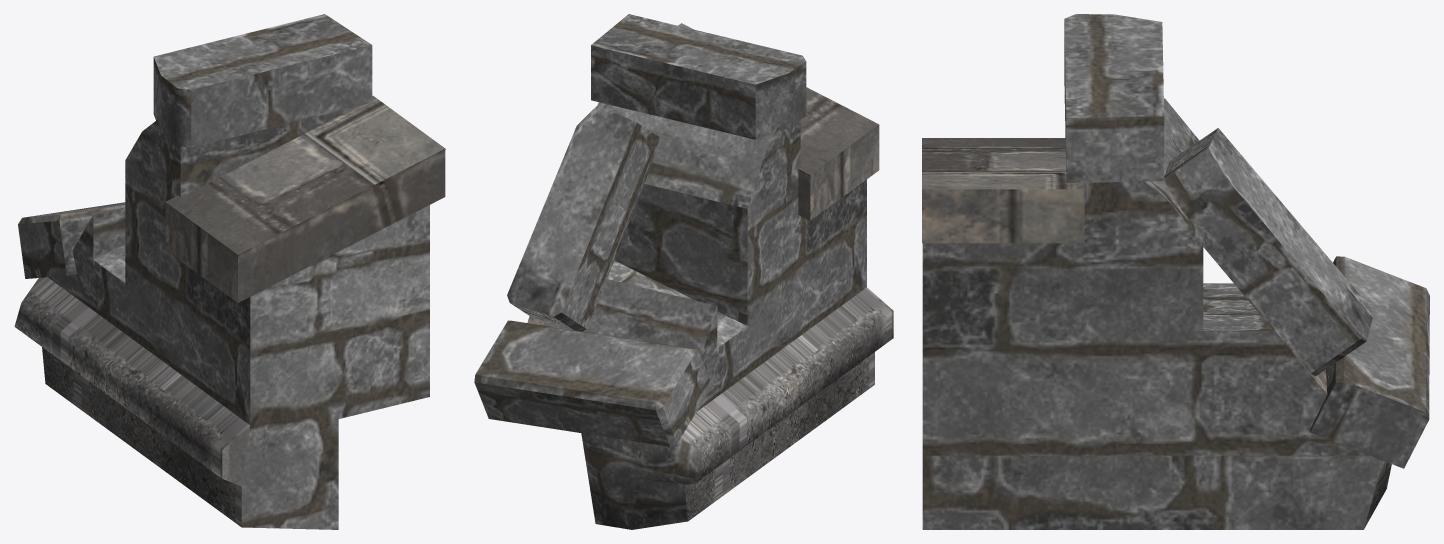
The model's file is MC_Battlements_Wall_A_Left_Broken.fbx.
3 renders of one model, left to right at view 1: azimuth 30°, elevation 25°; view 2: azimuth 150°, elevation 25°; view 3: azimuth 270°, elevation 25°, orthographic. The views are drawn at different scales.
Parts seen in each view (by area): view 1: MC_Battlements_Wall_A_Left_Broken_LOD0; view 2: MC_Battlements_Wall_A_Left_Broken_LOD0; view 3: MC_Battlements_Wall_A_Left_Broken_LOD0.
Part boxes in pixels (bbox=[...]): MC_Battlements_Wall_A_Left_Broken_LOD0: bbox=[14, 14, 445, 529]; MC_Battlements_Wall_A_Left_Broken_LOD0: bbox=[474, 14, 893, 529]; MC_Battlements_Wall_A_Left_Broken_LOD0: bbox=[922, 14, 1429, 529].
Size of what is drawn, in the model's own units: 91.25 by 162 by 160.
